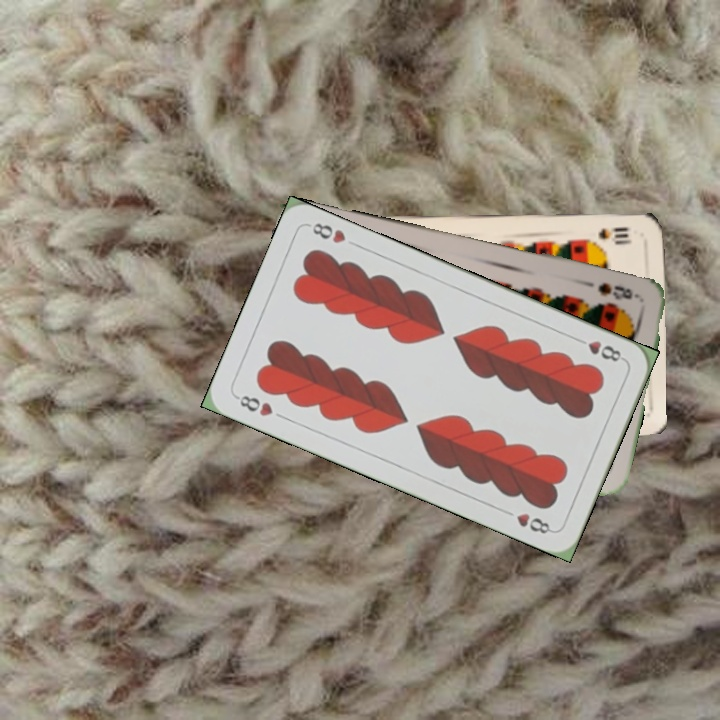H8: (571, 333, 627, 365), (231, 391, 276, 419)
S10: (594, 223, 635, 245)
S8: (594, 279, 642, 303)
